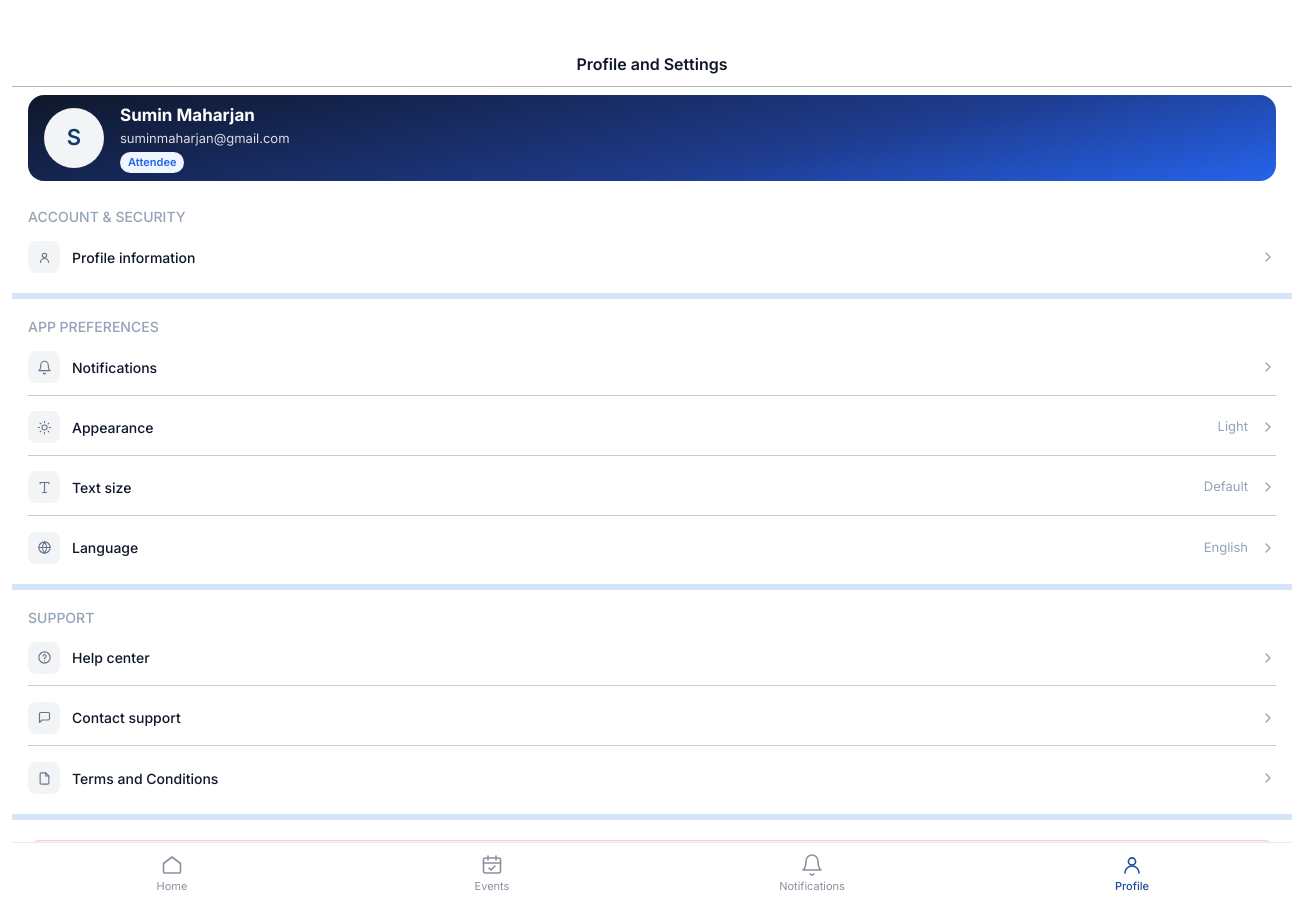
the notification switches › hides the app navbar on a settings subpage and restores it on Back
Check: the navigation bar named "Sections" is shown, box [12, 842, 1292, 899]
Click the button "Notifications" below "App Preferences": [44, 367] box [28, 340, 1276, 396]
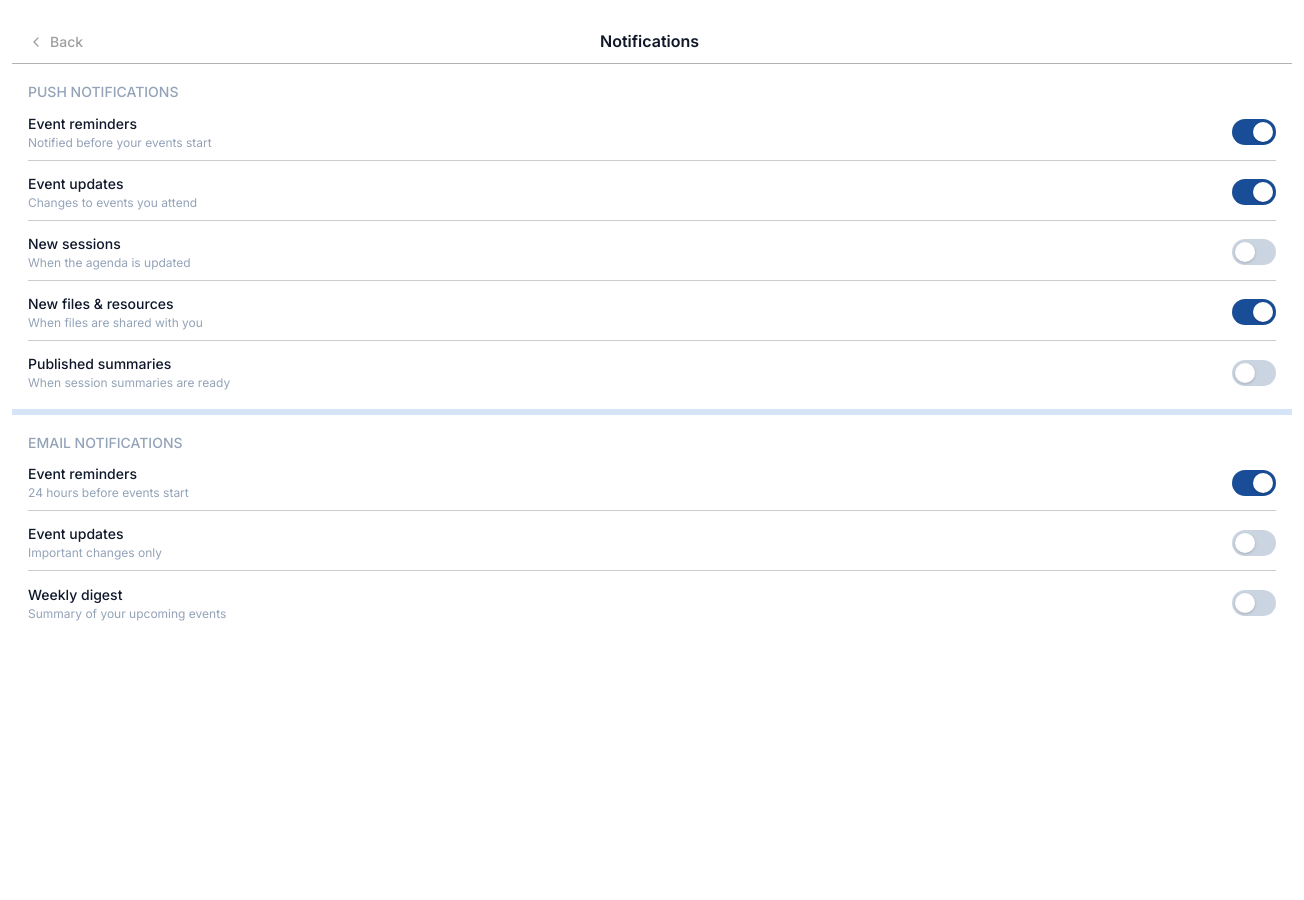
Check: the navigation bar "Sections" is gone
Click the button "Back": [56, 34] box [28, 16, 83, 52]
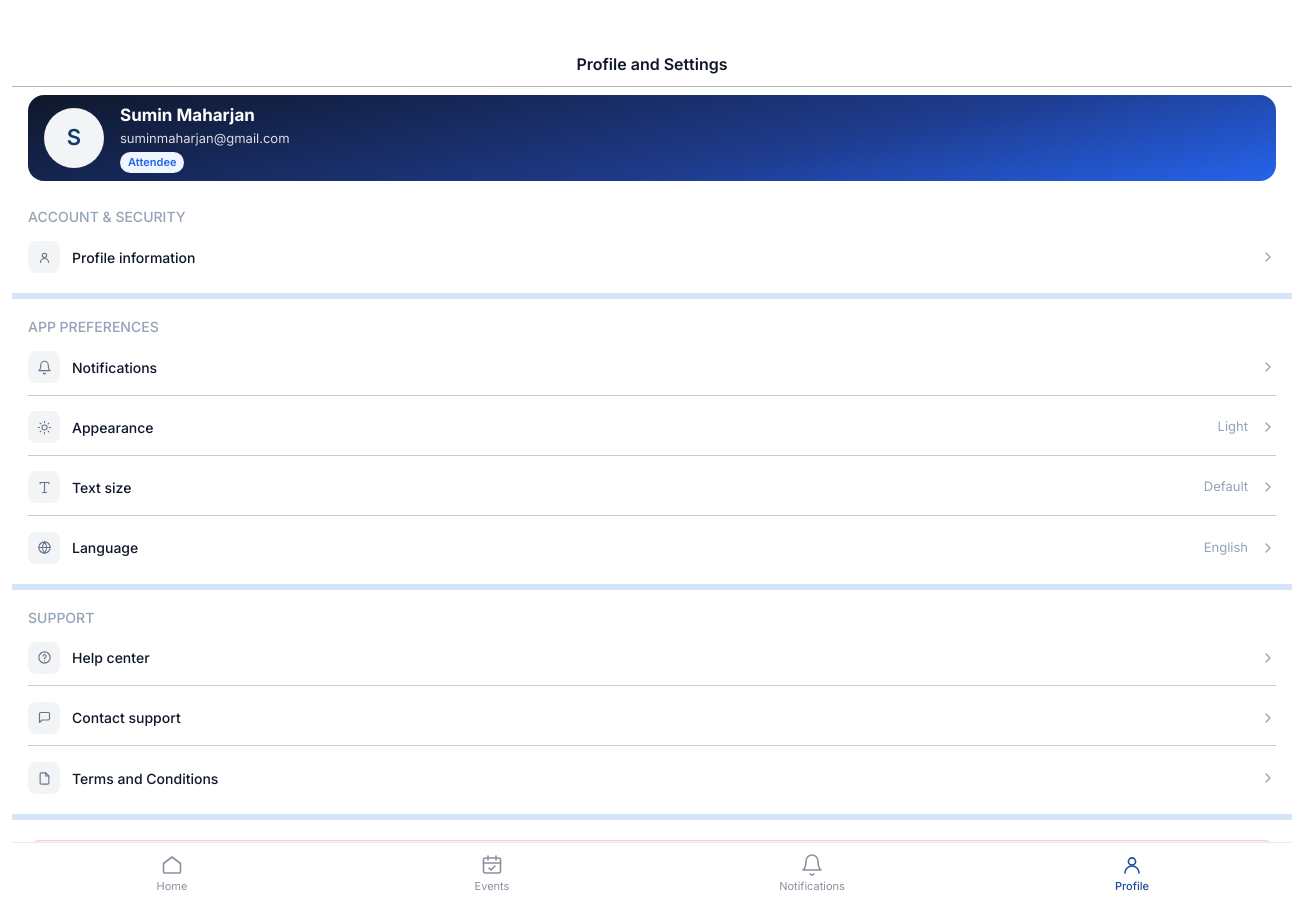
Check: the navigation bar named "Sections" is shown, box [12, 842, 1292, 899]
